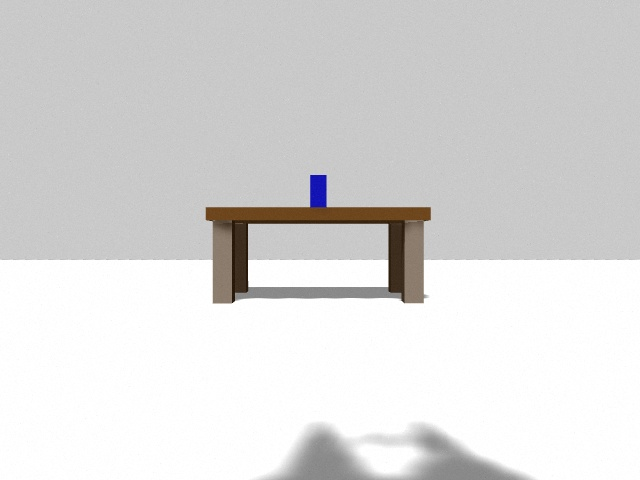blue_cube: (310, 175, 327, 207)
